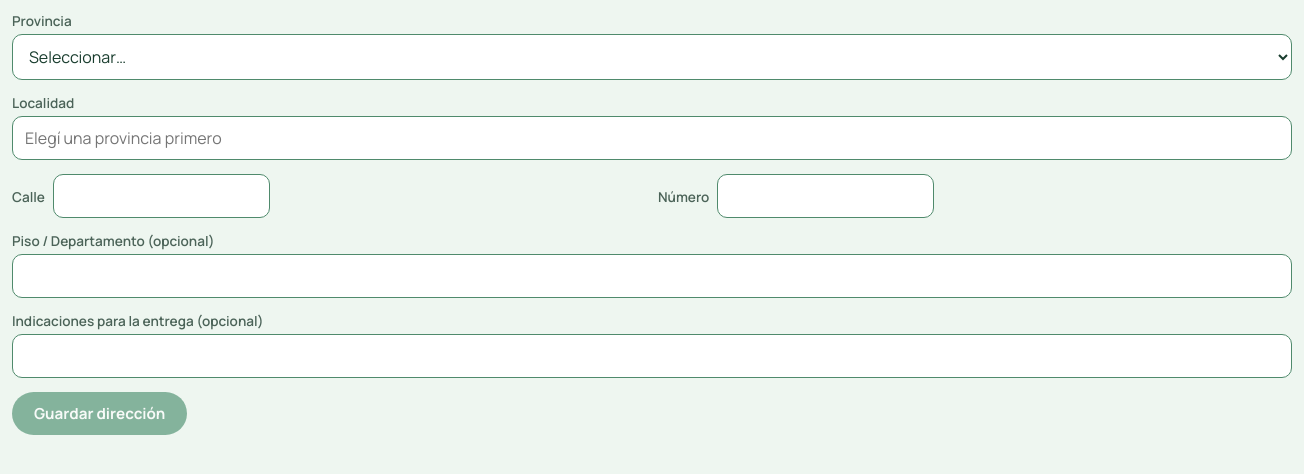
it: DireccionForm › al elegir provincia, escribir "R" en localidad muestra las 3 que empiezan con R (Rosario incluida)
Select "Santa Fe" in the dropdown labelled "Provincia": (652, 57) [12,34,1292,80]
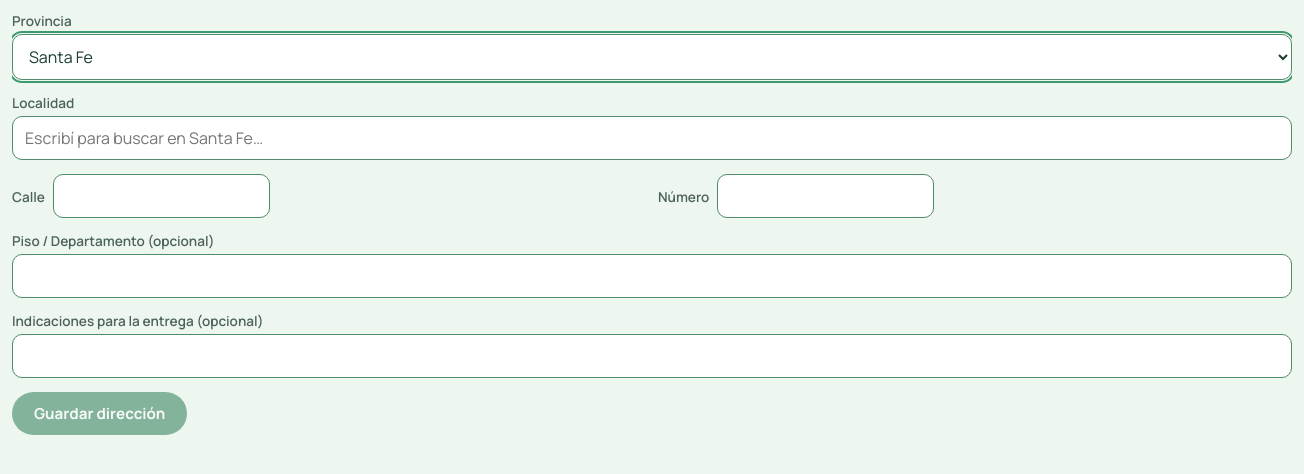
Check: the dropdown labelled "Localidad" is enabled
In the dropdown labelled "Localidad": (652, 138) [12,116,1292,160], type "R"
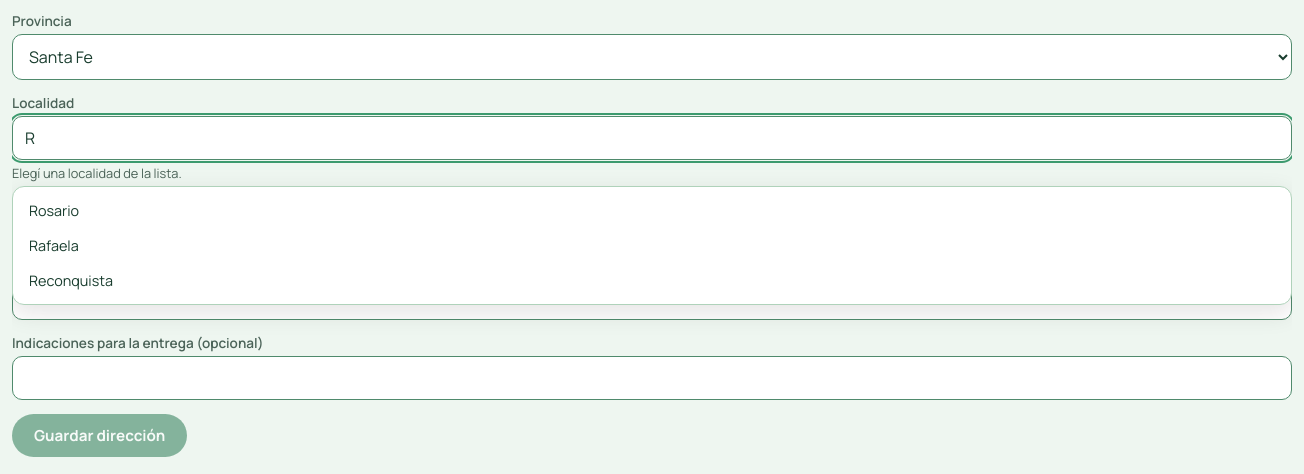
Check: the option "Rosario" is shown, box [29,201,79,220]
Check: the option "Rafaela" is shown, box [29,236,79,255]
Check: the option "Reconquista" is shown, box [29,271,113,290]
